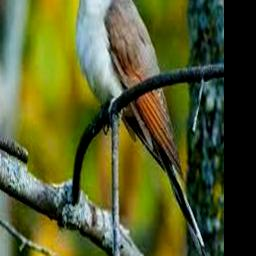Cuckoo: (74, 0, 215, 256)
